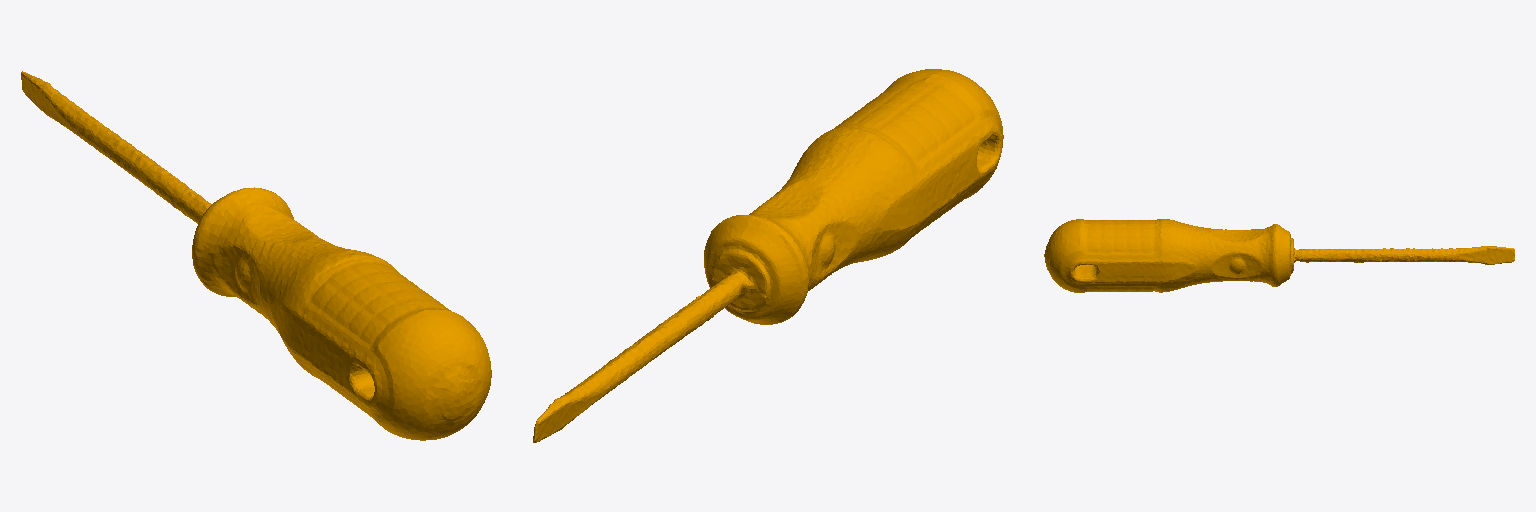
robot.urdf — model.urdf:
<?xml version="1.0" ?>
<robot name="model.urdf">
<link name="ycb">
<visual>
<origin rpy="0 0 0" xyz="0 0 0"/>
<geometry>
<mesh filename="meshes/textured_modified.obj" scale="1 1 1"/>
</geometry>
</visual>
<collision>
<origin rpy="0 0 0" xyz="0 0 0"/>
<geometry>
<mesh filename="meshes/textured_modified.obj" scale="1 1 1"/>
</geometry>
</collision>
<inertial>
<origin rpy="0 0 0" xyz="0 0 0"/>
       <mass value="0.098"/>
<inertia ixx="1" ixy="0" ixz="0" iyy="1" iyz="0" izz="1"/>
</inertial>
<contact>
<lateral_friction value="0.5"/>
<rolling_friction value="0.0"/>
<contact_cfm value="0.0"/>
<contact_erp value="1.0"/>
</contact>
</link>
</robot>

--- Render facts (derived) ---
3 views of the same robot in one strip: view 1: azimuth 30°, elevation 25°; view 2: azimuth 150°, elevation 25°; view 3: azimuth 270°, elevation 25° (orthographic).
Robot: model.urdf — 1 links, 0 joints (none); root link ycb; default pose: all joints at 0.
Links seen in each view (by area): view 1: ycb; view 2: ycb; view 3: ycb.
Link boxes in pixels (x1,y1,x2,y2): ycb: (21, 71, 491, 440); ycb: (533, 69, 1003, 442); ycb: (1044, 219, 1514, 292).
Bounding box of the posed robot: 0.0338 × 0.2162 × 0.0345 m (x, y, z).
Meshes: 1 distinct files referenced, 1 mesh visuals loaded (1 OBJ).